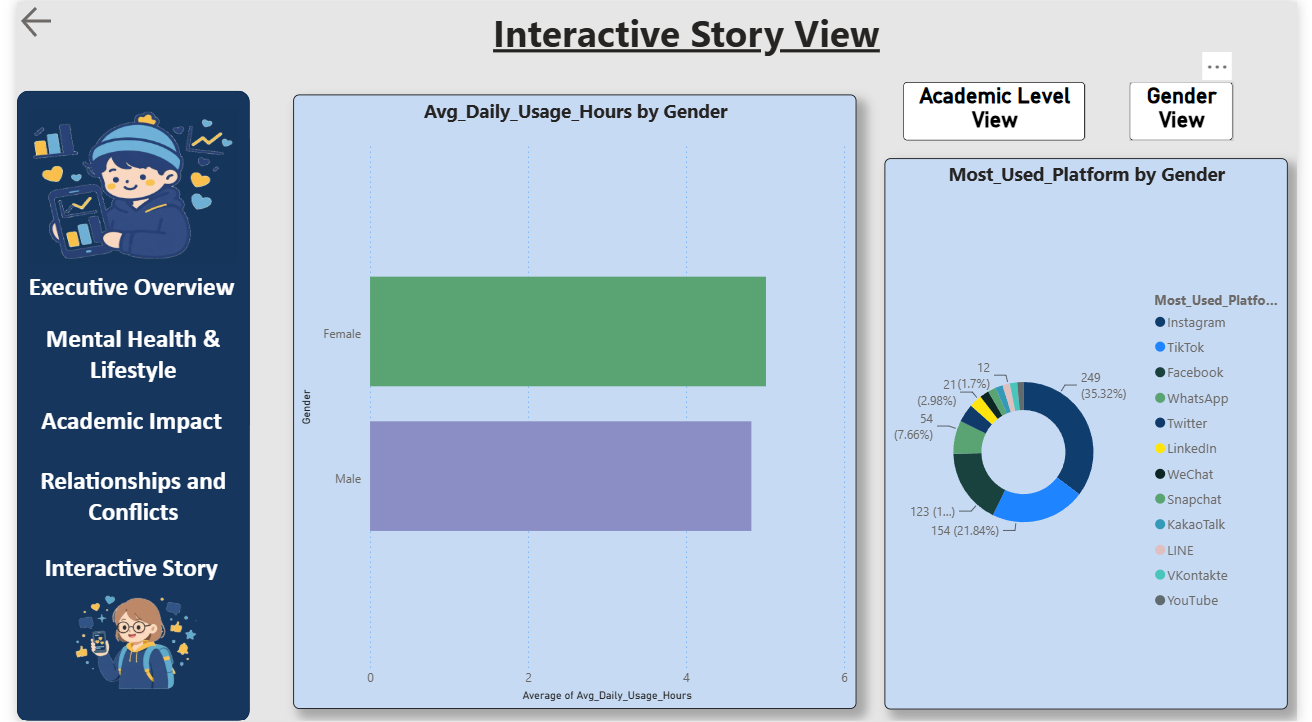

This screenshot's page, from the dashboard's own definition file:
{"tool":"powerbi","page":{"name":"Interactive Story View","canvas":[1280,720],"ordinal":4},"visuals":[{"type":"textbox","box":[324.7,0,688.9,88.9],"z":0},{"type":"barChart","title":"Avg_Daily_Usage_Hours by Academic_Level","fields":{"Category":["Student Details.Academic_Level"],"Y":["Avg(Platform Details.Avg_Daily_Usage_Hours)"]},"box":[267.1,90,560,617.1],"z":3000},{"type":"pieChart","title":"Most_Used_Platform by Academic_Level","fields":{"Category":["Platform Details.Most_Used_Platform"],"Y":["Student Details.Total Student"]},"box":[867.1,148.6,400,560],"z":4000},{"type":"actionButton","title":"Gender   View","box":[1112.9,80,102.9,58.6],"z":5000},{"type":"actionButton","title":"Academic Level View","box":[885.7,80,181.4,58.6],"z":6000},{"type":"actionButton","box":[0,0,50,40],"z":7000},{"type":"group","id":"g1","title":"Group 1","box":[0,89.3,232.9,631],"z":9000},{"type":"shape","box":[0,89.3,232.8,631],"z":9000,"group":"g1"},{"type":"group","id":"g2","title":"Group 1","box":[9.7,105,211.1,591.2],"z":10000},{"type":"actionButton","title":"Executive Overview","box":[0,268.7,229.2,35],"z":10000,"group":"g1"},{"type":"image","box":[9.7,105,211.1,156.8],"z":11000,"group":"g2"},{"type":"actionButton","title":"Mental Health & Lifestyle","box":[0,321.8,232.8,65.1],"z":11000,"group":"g1"},{"type":"actionButton","title":"Academic Impact","box":[0,402.6,229.2,43.4],"z":12000,"group":"g1"},{"type":"image","box":[11.3,585.5,208.7,110.6],"z":12000,"group":"g2"},{"type":"actionButton","title":"Relationships and Conflicts","box":[0,462.9,232.9,64.2],"z":13000,"group":"g1"},{"type":"actionButton","title":"Interactive Story View","box":[0,550.4,228.6,62.7],"z":14000,"group":"g1"}]}

Visuals, with their boxes in screenshot pixels (x1, y1, x2, y2), scaled from the page's 1280x720 canvas onto the 1312x722 screenshot:
textbox: select_region(333, 0, 1039, 89)
"Avg_Daily_Usage_Hours by Academic_Level" barChart: select_region(274, 90, 848, 709)
"Most_Used_Platform by Academic_Level" pieChart: select_region(889, 149, 1299, 711)
"Gender   View" actionButton: select_region(1141, 80, 1246, 139)
"Academic Level View" actionButton: select_region(908, 80, 1094, 139)
actionButton: select_region(0, 0, 51, 40)
"Group 1" group: select_region(0, 90, 239, 721)
shape: select_region(0, 90, 239, 721)
"Group 1" group: select_region(10, 105, 226, 698)
"Executive Overview" actionButton: select_region(0, 269, 235, 305)
image: select_region(10, 105, 226, 263)
"Mental Health & Lifestyle" actionButton: select_region(0, 323, 239, 388)
"Academic Impact" actionButton: select_region(0, 404, 235, 447)
image: select_region(12, 587, 225, 698)
"Relationships and Conflicts" actionButton: select_region(0, 464, 239, 529)
"Interactive Story View" actionButton: select_region(0, 552, 234, 615)
